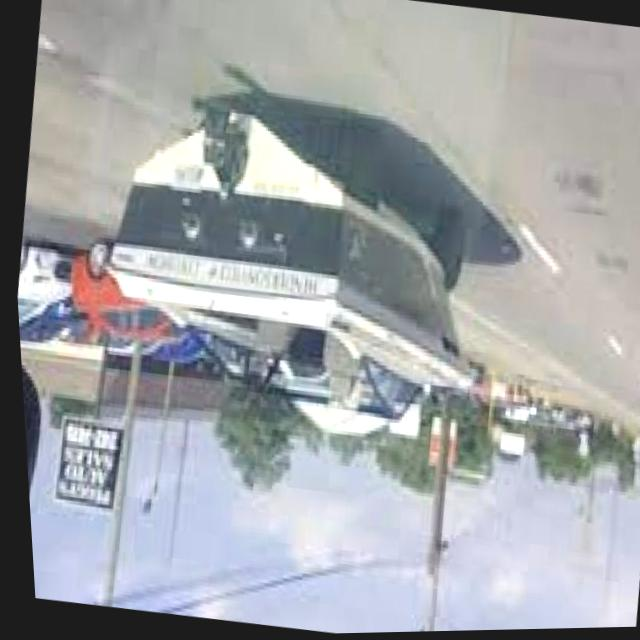ship2: (105, 97, 470, 433)
